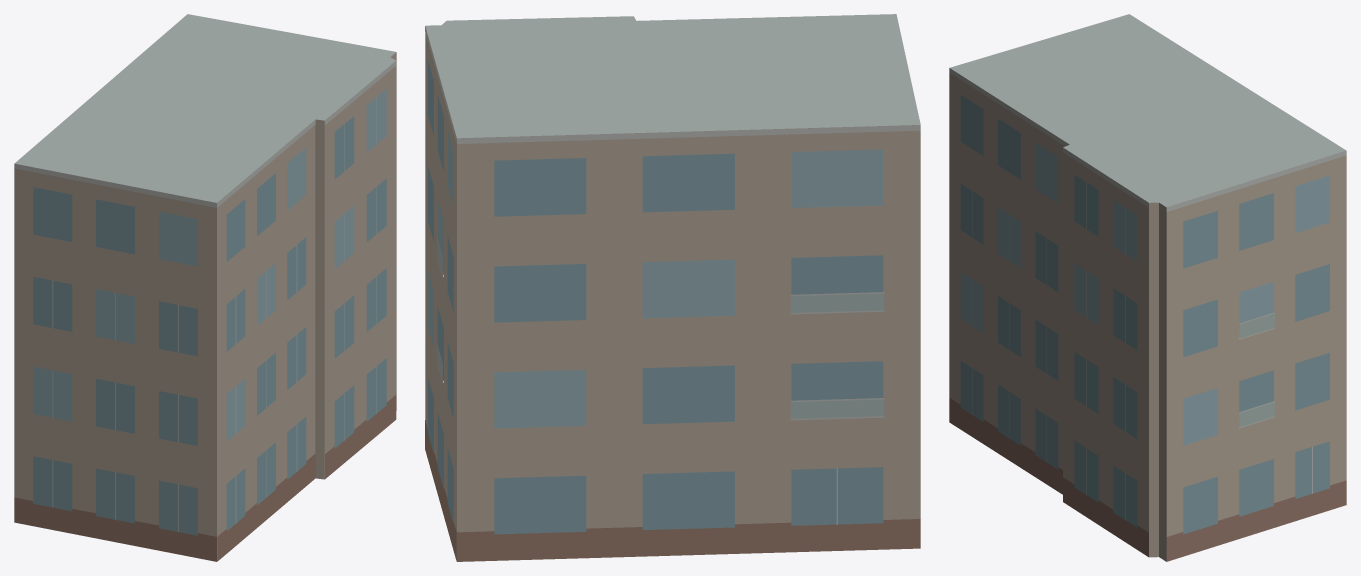
File: survey-upis-32667581.glb
The picture shows the model from 3 angles, left to right: view 1: azimuth 30°, elevation 25°; view 2: azimuth 150°, elevation 25°; view 3: azimuth 270°, elevation 25°; orthographic projection. The views are drawn at different scales.
Parts seen in each view (by area): view 1: survey-upis-32667581.tmp; view 2: survey-upis-32667581.tmp; view 3: survey-upis-32667581.tmp.
Part boxes in pixels (x1,y1,x2,y2): survey-upis-32667581.tmp: (14, 14, 396, 561); survey-upis-32667581.tmp: (425, 14, 920, 561); survey-upis-32667581.tmp: (949, 14, 1346, 561).
Bounding box in the file's own units: 20.83 × 17.8 × 18.08.
